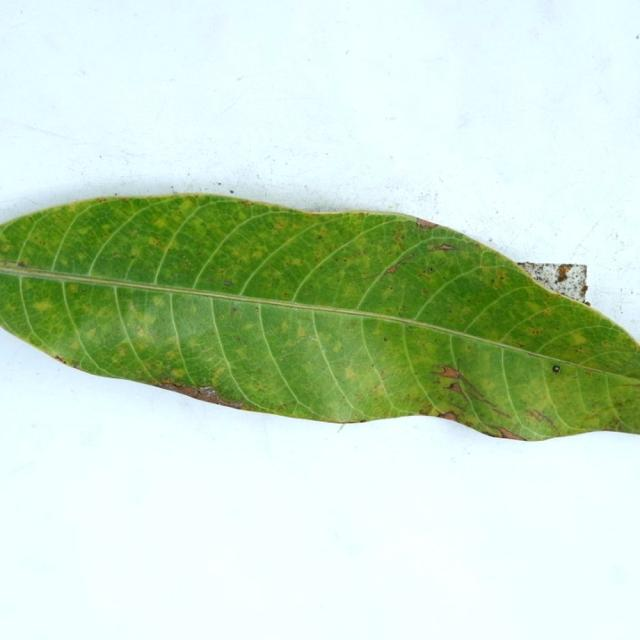Mango: (0, 195, 639, 440)
Powdery_Mildew: (126, 303, 161, 332), (525, 319, 553, 337), (392, 223, 406, 246), (175, 199, 197, 213), (290, 253, 306, 272), (491, 273, 508, 290), (428, 243, 459, 252), (32, 300, 55, 312), (569, 333, 589, 346), (418, 266, 437, 279), (211, 365, 227, 380), (371, 379, 387, 393), (348, 248, 368, 258), (151, 295, 167, 307), (385, 263, 401, 275), (344, 367, 358, 380), (253, 381, 269, 392), (234, 347, 249, 358), (296, 325, 308, 338), (115, 345, 128, 357), (273, 220, 287, 231), (302, 363, 316, 374), (251, 250, 264, 261), (241, 322, 256, 331), (4, 304, 19, 313), (85, 327, 97, 338), (331, 342, 343, 353), (148, 237, 161, 247), (172, 368, 185, 378), (67, 283, 79, 293), (540, 307, 554, 315), (529, 327, 543, 335), (280, 321, 290, 332), (1, 244, 14, 252), (348, 320, 358, 329), (17, 260, 28, 268), (216, 268, 228, 275), (234, 336, 246, 343), (277, 402, 287, 410), (95, 197, 108, 203), (576, 346, 587, 353), (223, 279, 233, 286), (242, 200, 253, 206), (129, 303, 137, 311), (421, 289, 429, 296), (591, 401, 599, 408), (475, 242, 483, 249), (111, 253, 121, 258), (38, 240, 46, 246), (380, 369, 386, 377), (231, 307, 238, 313), (81, 287, 86, 293), (383, 337, 388, 342), (317, 235, 323, 239), (284, 293, 289, 297), (499, 276, 504, 280), (389, 286, 394, 290), (194, 195, 199, 199), (343, 258, 347, 262)
